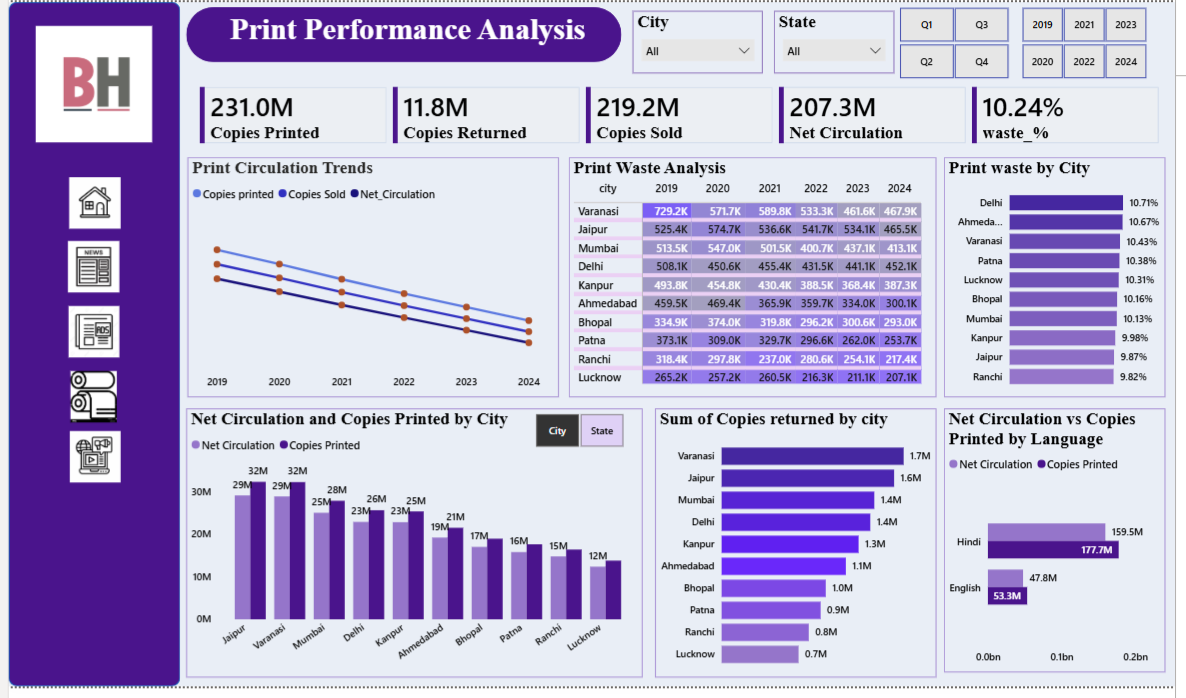

What the dashboard file says about the page in this screenshot:
{"tool":"powerbi","page":{"name":"Print Performance ","canvas":[1450,850],"ordinal":1},"visuals":[{"type":"cardVisual","fields":{"Data":["Sum(fact_print_sales.Copies_printed)","Sum(fact_print_sales.copies_returned)","Sum(fact_print_sales.Copies Sold)","Sum(fact_print_sales.Net_Circulation)","fact_print_sales.waste_%"]},"box":[220.7,88.6,1229.6,104.1],"z":0},{"type":"shape","box":[0,0,213,850.3],"z":1000},{"type":"slicer","fields":{"Values":["dim_date.year"]},"box":[1234.2,0,203.6,101],"z":2000},{"type":"clusteredColumnChart","fields":{"Category":["dim_city.city"],"Y":["Sum(fact_print_sales.Net_Circulation)","Sum(fact_print_sales.Copies_printed)"]},"box":[220.7,505.2,567.4,334.2],"z":3000},{"type":"slicer","fields":{"Values":["Parameter 2.Parameter"]},"box":[629.6,505.2,158.6,54.4],"z":4000},{"type":"slicer","fields":{"Values":["dim_date.quarter"]},"box":[1081.9,0,185,101],"z":5000},{"type":"pivotTable","title":"Print Waste Analysis ","fields":{"Rows":["dim_city.city"],"Columns":["fact_print_sales.Year"],"Values":["Sum(fact_print_sales.print_waste Copies)"]},"box":[696.4,192.8,457,298.5],"z":6000},{"type":"clusteredBarChart","title":"Net Circulation vs Copies Printed by Language","fields":{"Category":["fact_print_sales.Language"],"Y":["Sum(fact_print_sales.Net_Circulation)","Sum(fact_print_sales.Copies_printed)"]},"box":[1162.7,505.2,275.1,328],"z":7000},{"type":"barChart","title":"Print waste by City","fields":{"Category":["dim_city.city"],"Y":["fact_print_sales.waste_%"]},"box":[1162.7,192.8,275.1,298.5],"z":8000},{"type":"clusteredBarChart","fields":{"Category":["dim_city.city"],"Y":["Sum(fact_print_sales.copies_returned)"]},"box":[803.7,505.2,349.8,334.2],"z":9000},{"type":"shape","box":[220.7,6.2,541,68.4],"z":11000},{"type":"textbox","box":[239.4,6.2,522.3,68.4],"z":12000},{"type":"slicer","title":"City","fields":{"Values":["dim_city.city"]},"box":[775.7,10.9,161.7,77.7],"z":13000},{"type":"lineChart","title":"Print Circulation Trends","fields":{"Category":["fact_print_sales.Year"],"Y":["Sum(fact_print_sales.Copies_printed)","Sum(fact_print_sales.Copies Sold)","Sum(fact_print_sales.Net_Circulation)"]},"box":[222.3,192.8,461.7,298.5],"z":14000},{"type":"slicer","title":"State ","fields":{"Values":["dim_city.state"]},"box":[951.3,10.9,149.2,77.7],"z":15000},{"type":"image","box":[56,296.9,99.5,63.7],"z":15001},{"type":"image","box":[56,377.7,100,63.7],"z":15002},{"type":"image","box":[56,458.6,99.5,63.7],"z":15003},{"type":"image","box":[57.5,533.2,100,63.7],"z":15004},{"type":"image","box":[57.5,217.6,99.5,63.7],"z":15005},{"type":"image","box":[3.1,29.5,205.2,144.6],"z":15006}]}

Visuals, with their boxes in screenshot pixels (x1, y1, x2, y2), scaled from the page's 1450x850 canvas onto the 1186x698 screenshot:
cardVisual - Sum(fact_print_sales.Copies_printed) x Sum(fact_print_sales.copies_returned): Rect(181, 73, 1185, 158)
shape: Rect(0, 0, 174, 697)
slicer - dim_date.year: Rect(1009, 0, 1176, 83)
clusteredColumnChart - dim_city.city x Sum(fact_print_sales.Net_Circulation): Rect(181, 415, 645, 689)
slicer - Parameter 2.Parameter: Rect(515, 415, 645, 460)
slicer - dim_date.quarter: Rect(885, 0, 1036, 83)
"Print Waste Analysis " pivotTable: Rect(570, 158, 943, 403)
"Net Circulation vs Copies Printed by Language" clusteredBarChart: Rect(951, 415, 1176, 684)
"Print waste by City" barChart: Rect(951, 158, 1176, 403)
clusteredBarChart - dim_city.city x Sum(fact_print_sales.copies_returned): Rect(657, 415, 943, 689)
shape: Rect(181, 5, 623, 61)
textbox: Rect(196, 5, 623, 61)
"City" slicer: Rect(634, 9, 767, 73)
"Print Circulation Trends" lineChart: Rect(182, 158, 559, 403)
"State " slicer: Rect(778, 9, 900, 73)
image: Rect(46, 244, 127, 296)
image: Rect(46, 310, 128, 362)
image: Rect(46, 377, 127, 429)
image: Rect(47, 438, 129, 490)
image: Rect(47, 179, 128, 231)
image: Rect(3, 24, 170, 143)
